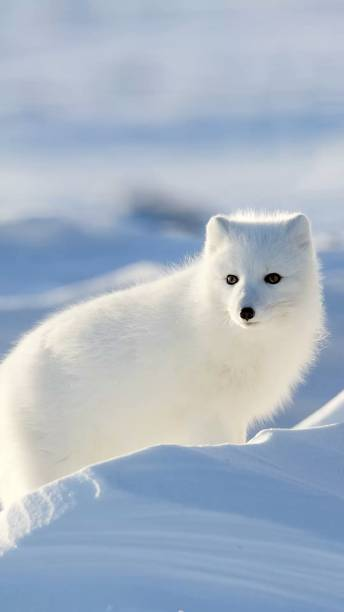arcticfox: (213, 245, 307, 346)
